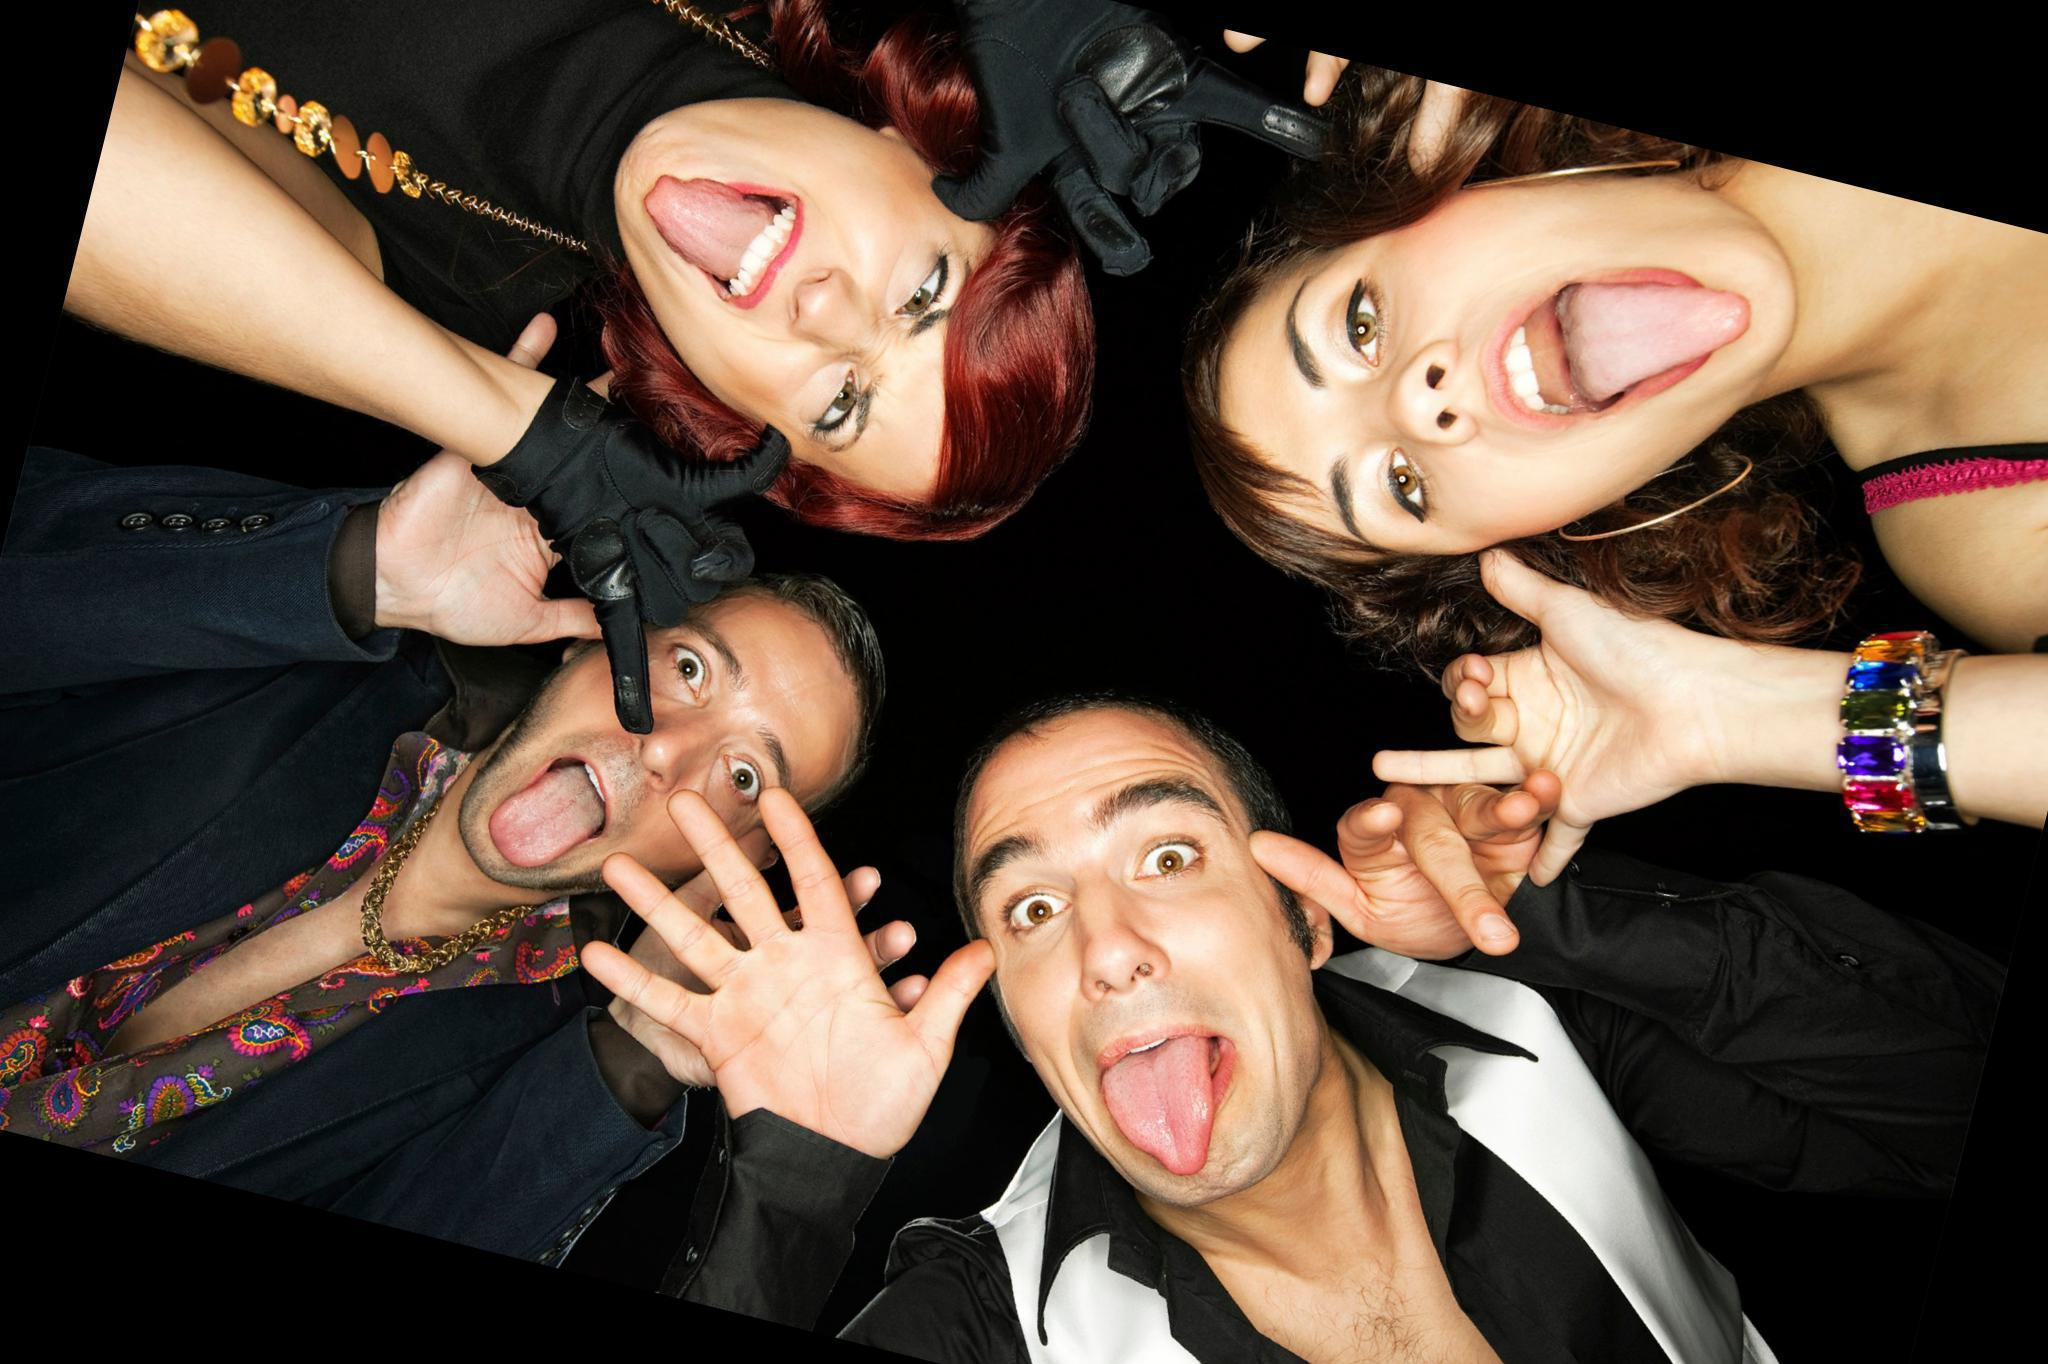Drunk: (1231, 221, 1774, 545), (962, 731, 1299, 1190), (625, 152, 984, 499), (495, 609, 843, 889)
